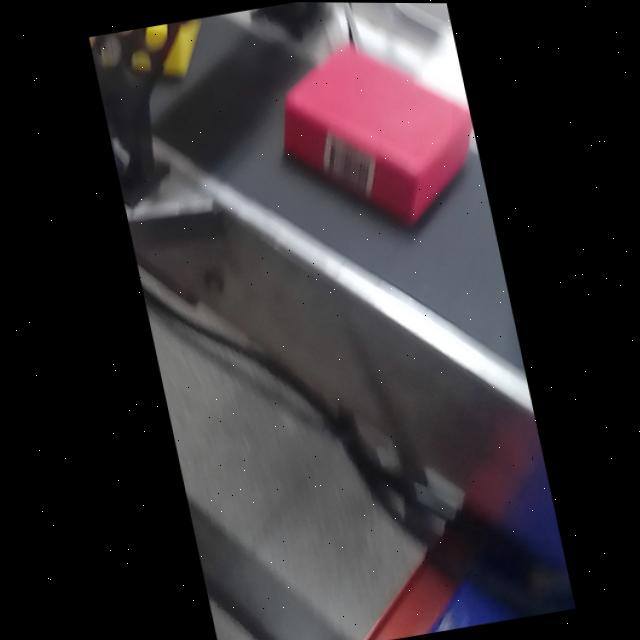redBox: (252, 3, 494, 264)
yellowBox: (88, 17, 217, 100)
